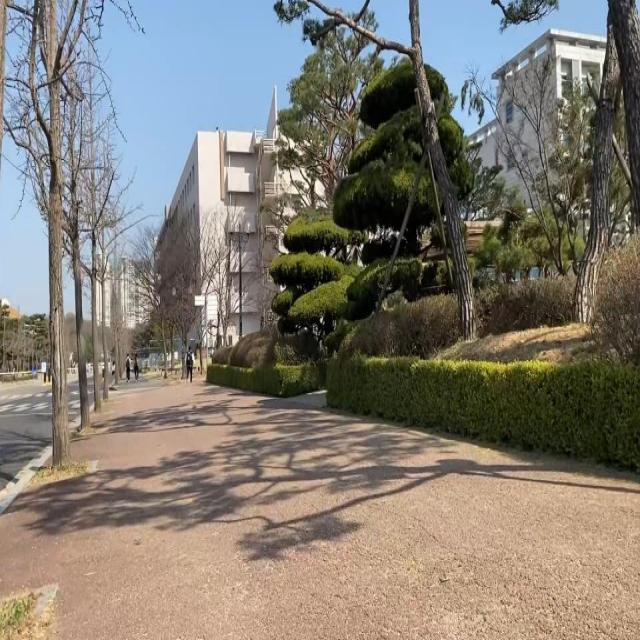sidewalk: (0, 385, 640, 640)
